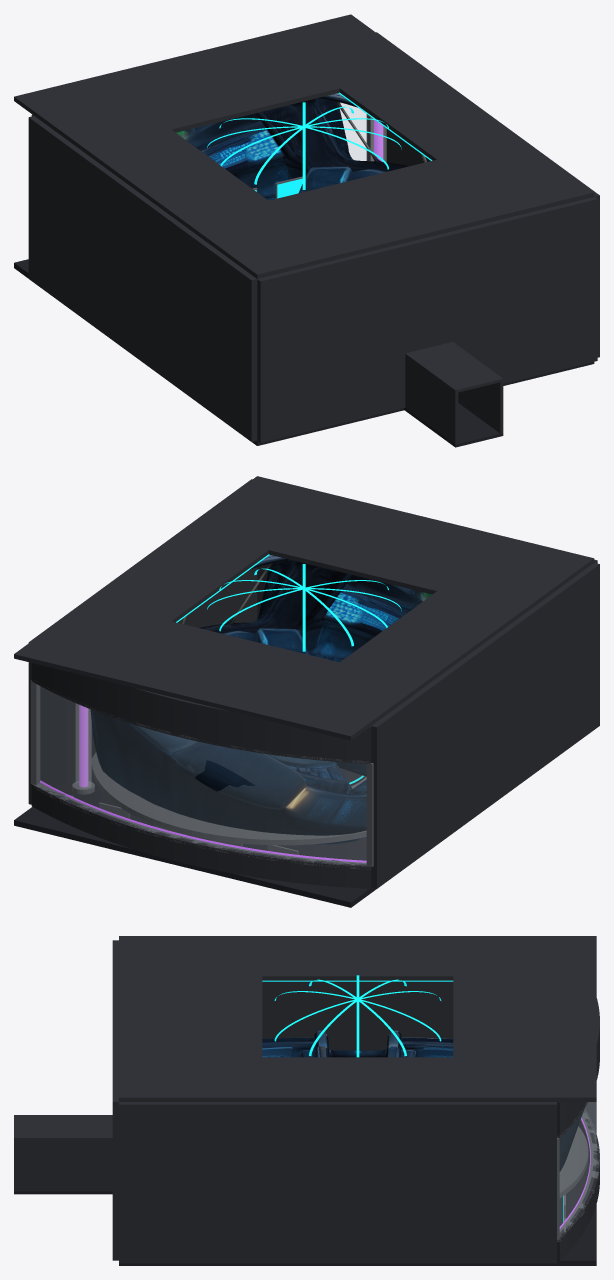
Rendered from infinity6-bridge-clean-2026-11-10.glb.
3 views of the same model, one above another, from view 1: azimuth 30°, elevation 25°; view 2: azimuth 150°, elevation 25°; view 3: azimuth 270°, elevation 25° (orthographic).
Parts seen in each view (by area): view 1: SideWall_P, Ceiling_Aft, Ceiling_Fwd, AftWall_Left, AftWall_Right, tripo_7b4fd2ee_20b5_4620_9f2f_6b32a8009c46, Ceiling_Port, Ceiling_Starboard, AftWall_Header, Corridor_Wall_P, Corridor_Roof, SideWall_S (+5 smaller); view 2: SideWall_P, ViewportGlass_Pane, tripo_7b4fd2ee_20b5_4620_9f2f_6b32a8009c46, Ceiling_Fwd, Ceiling_Aft, FwdBulkhead_Top, FwdBulkhead_Bottom, Ceiling_Port, Ceiling_Starboard, SideWall_S, Floor, Veras_Gallery_Mesh5 (+6 smaller); view 3: SideWall_S, Ceiling_Fwd, Ceiling_Aft, SideWall_P, Ceiling_Starboard, Ceiling_Port, Corridor_Wall_S, tripo_7b4fd2ee_20b5_4620_9f2f_6b32a8009c46, ViewportGlass_Pane, Floor, Corridor_Roof, FwdBulkhead_Bottom (+5 smaller).
Boxes of the visible parts, x1=… form: SideWall_P: x1=28, y1=116, x2=257, y2=441; Ceiling_Aft: x1=184, y1=139, x2=594, y2=278; Ceiling_Fwd: x1=14, y1=14, x2=423, y2=153; AftWall_Left: x1=257, y1=243, x2=407, y2=442; AftWall_Right: x1=447, y1=197, x2=597, y2=383; tripo_7b4fd2ee_20b5_4620_9f2f_6b32a8009c46: x1=176, y1=93, x2=426, y2=200; Ceiling_Port: x1=87, y1=129, x2=267, y2=225; Ceiling_Starboard: x1=339, y1=68, x2=520, y2=160; AftWall_Header: x1=405, y1=233, x2=449, y2=352; Corridor_Wall_P: x1=405, y1=357, x2=458, y2=444; Corridor_Roof: x1=405, y1=342, x2=503, y2=392; SideWall_S: x1=376, y1=32, x2=599, y2=357; SideWall_P: x1=371, y1=563, x2=599, y2=888; ViewportGlass_Pane: x1=37, y1=685, x2=366, y2=864; tripo_7b4fd2ee_20b5_4620_9f2f_6b32a8009c46: x1=90, y1=555, x2=432, y2=844; Ceiling_Fwd: x1=14, y1=601, x2=423, y2=740; Ceiling_Aft: x1=184, y1=476, x2=594, y2=615; FwdBulkhead_Top: x1=31, y1=663, x2=371, y2=763; FwdBulkhead_Bottom: x1=31, y1=784, x2=371, y2=888; Ceiling_Port: x1=340, y1=591, x2=521, y2=686; Ceiling_Starboard: x1=87, y1=529, x2=268, y2=622; SideWall_S: x1=28, y1=479, x2=257, y2=804; Floor: x1=14, y1=764, x2=376, y2=907; Veras_Gallery_Mesh5: x1=91, y1=752, x2=366, y2=845; SideWall_S: x1=119, y1=1102, x2=556, y2=1263; Ceiling_Fwd: x1=453, y1=936, x2=596, y2=1101; Ceiling_Aft: x1=119, y1=936, x2=262, y2=1101; SideWall_P: x1=262, y1=981, x2=453, y2=1050; Ceiling_Starboard: x1=262, y1=1057, x2=453, y2=1101; Ceiling_Port: x1=262, y1=936, x2=453, y2=980; Corridor_Wall_S: x1=14, y1=1140, x2=112, y2=1191; tripo_7b4fd2ee_20b5_4620_9f2f_6b32a8009c46: x1=262, y1=1030, x2=584, y2=1171; ViewportGlass_Pane: x1=560, y1=1102, x2=596, y2=1235; Floor: x1=119, y1=1102, x2=596, y2=1265; Corridor_Roof: x1=14, y1=1115, x2=112, y2=1140; FwdBulkhead_Bottom: x1=557, y1=1108, x2=599, y2=1260.
Size of the model in its own units: 24.8 by 12.87 by 36.8.
12 materials, 2 textured.
